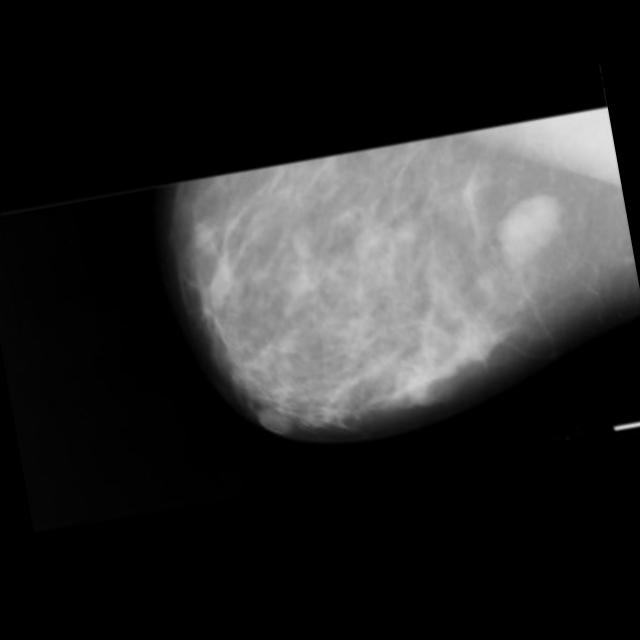CIRC: (478, 182, 576, 280)
